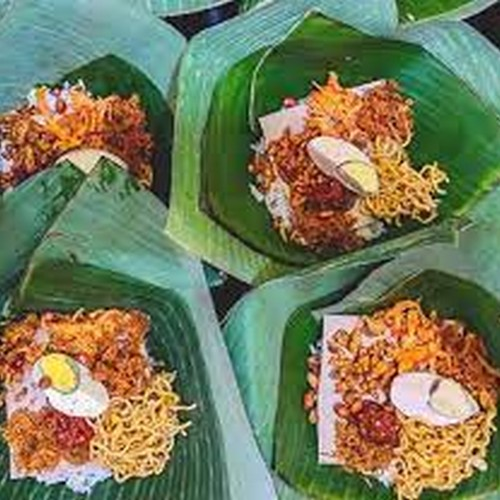nasi jinggo: (8, 295, 202, 495)
